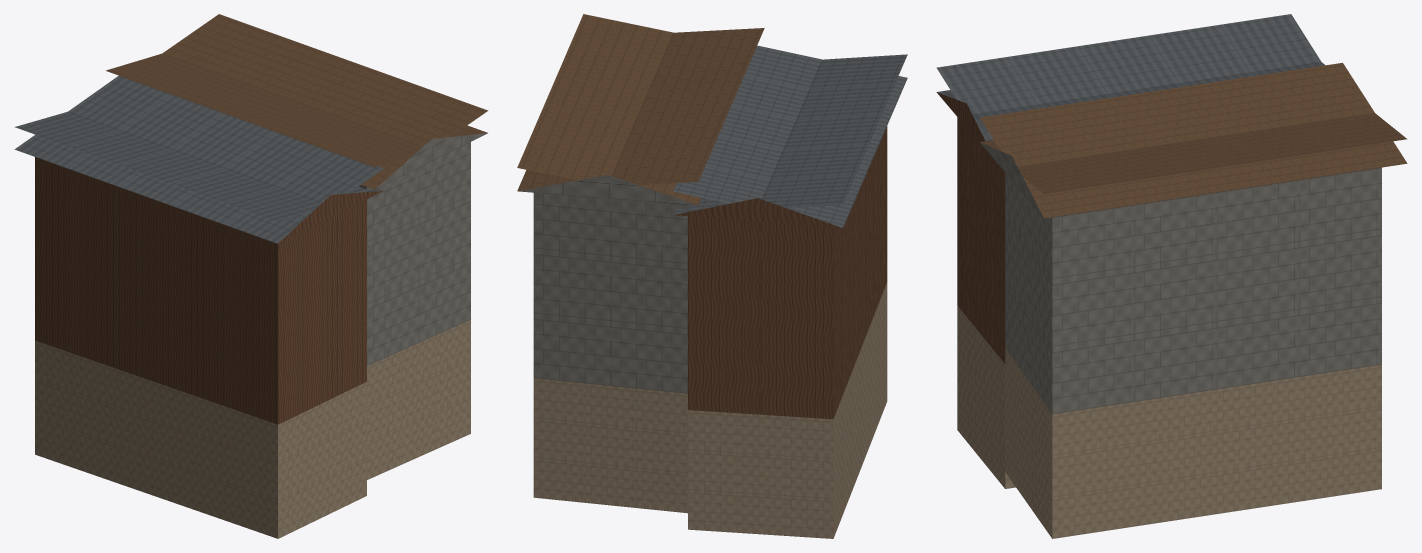
Rendered from bld_c4_5_505.gltf.
3 views of the same model, side by side, from view 1: azimuth 30°, elevation 25°; view 2: azimuth 150°, elevation 25°; view 3: azimuth 270°, elevation 25° (orthographic). The views are drawn at different scales.
Parts seen in each view (by area): view 1: bld_c4_5_505; view 2: bld_c4_5_505; view 3: bld_c4_5_505.
Boxes of the visible parts, <box> form: bld_c4_5_505: <box>14,14,488,538</box>; bld_c4_5_505: <box>517,14,907,538</box>; bld_c4_5_505: <box>936,14,1407,538</box>.
Bounding box in the file's own units: 16.87 × 15.1 × 17.46.
Materials: 7 (7 with a texture image).
